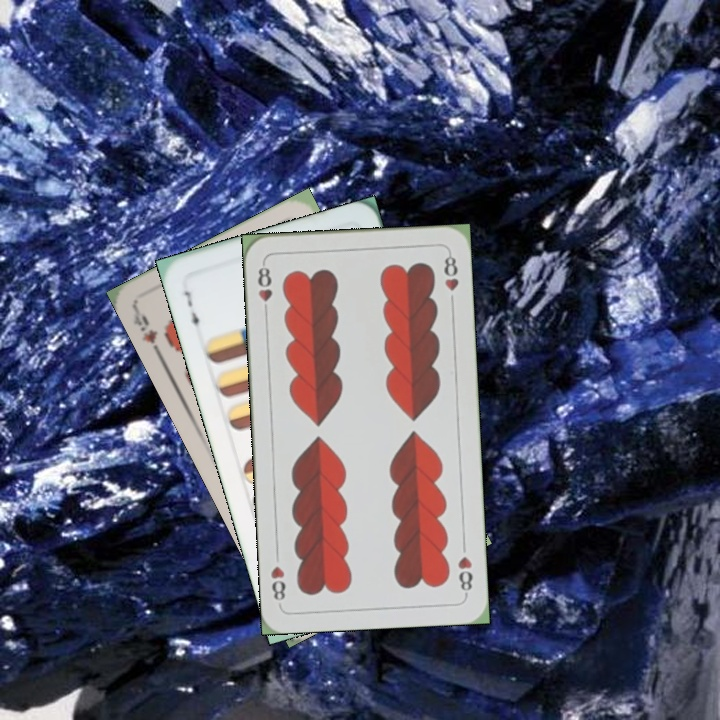E7: (179, 287, 202, 336)
H8: (253, 259, 275, 318), (453, 552, 475, 598)
H9: (129, 304, 165, 359)
